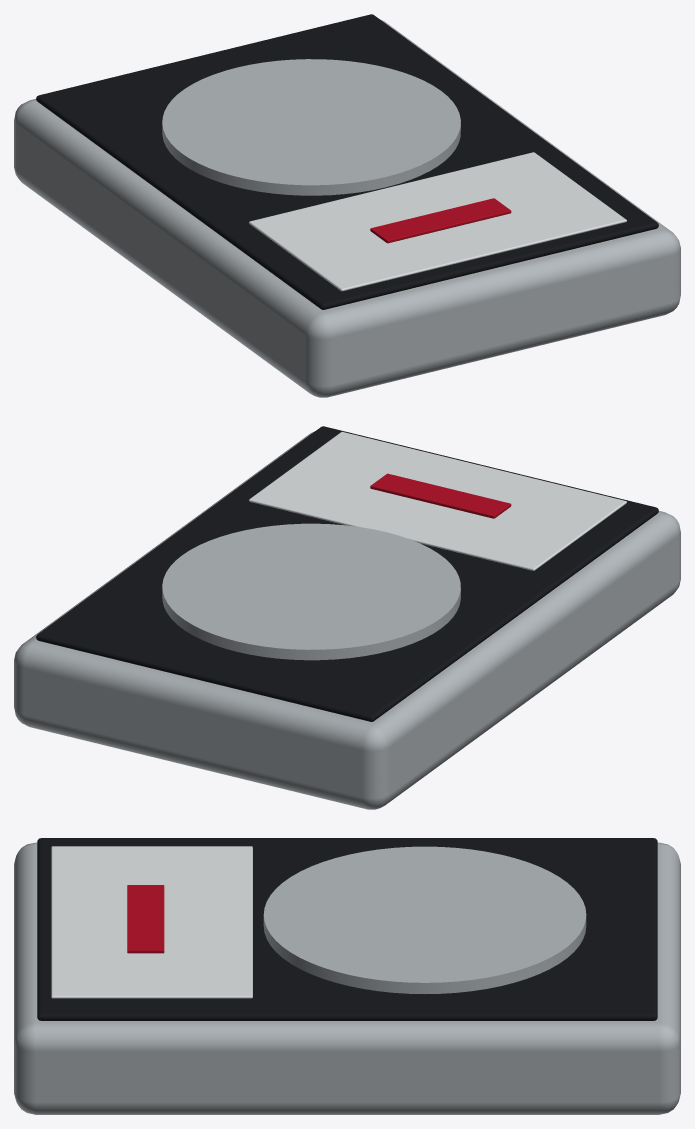
Rendered from storage.glb.
The picture shows the model from 3 angles, top to bottom: view 1: azimuth 30°, elevation 25°; view 2: azimuth 150°, elevation 25°; view 3: azimuth 270°, elevation 25°; orthographic projection. The views are drawn at different scales.
Visible parts, largest first — view 1: storage; view 2: storage; view 3: storage.
Part boxes in pixels (x1,y1,x2,y2): storage: [14, 14, 680, 397]; storage: [14, 426, 680, 809]; storage: [14, 838, 680, 1114].
Size of the model in its own units: 1.5 by 0.3875 by 2.15.
